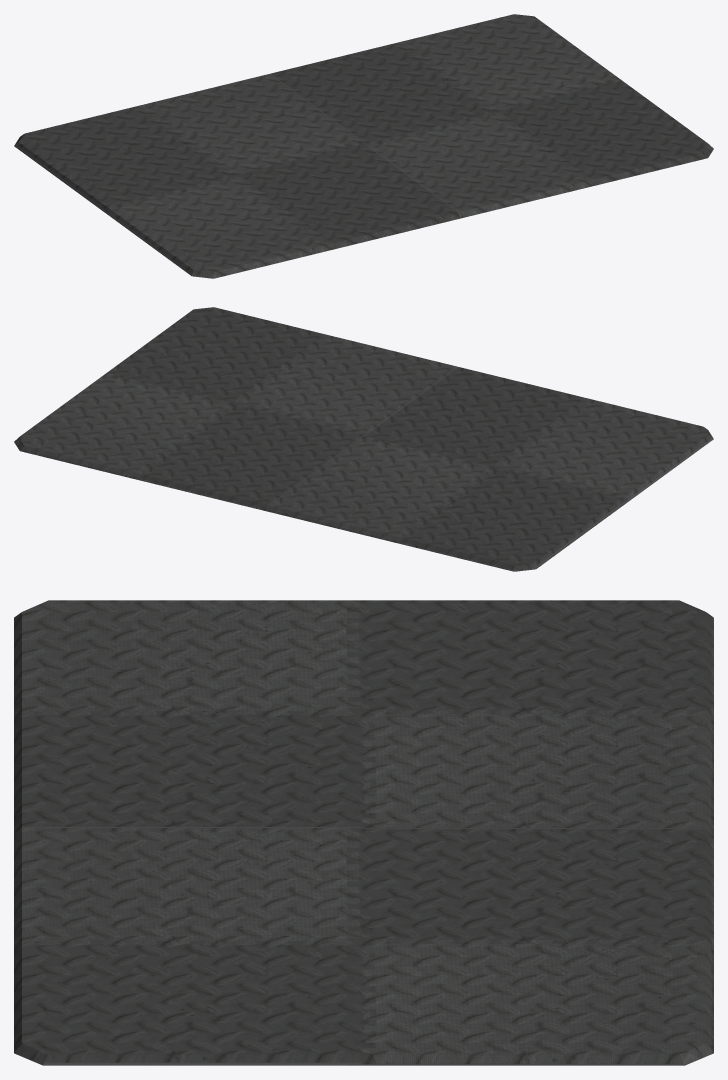
Rendered from GYM_Rubber_Mat.fbx.
The picture shows the model from 3 angles, top to bottom: view 1: azimuth 30°, elevation 25°; view 2: azimuth 150°, elevation 25°; view 3: azimuth 270°, elevation 25°; orthographic projection. The views are drawn at different scales.
Visible parts, largest first — view 1: MAT1; view 2: MAT1; view 3: MAT1.
Part boxes in pixels (x1,y1,x2,y2): MAT1: [14, 14, 713, 278]; MAT1: [14, 307, 713, 571]; MAT1: [14, 600, 713, 1065].
Size of the model in its own units: 5.73 by 0.0455 by 3.68.
1 material, 1 textured.
